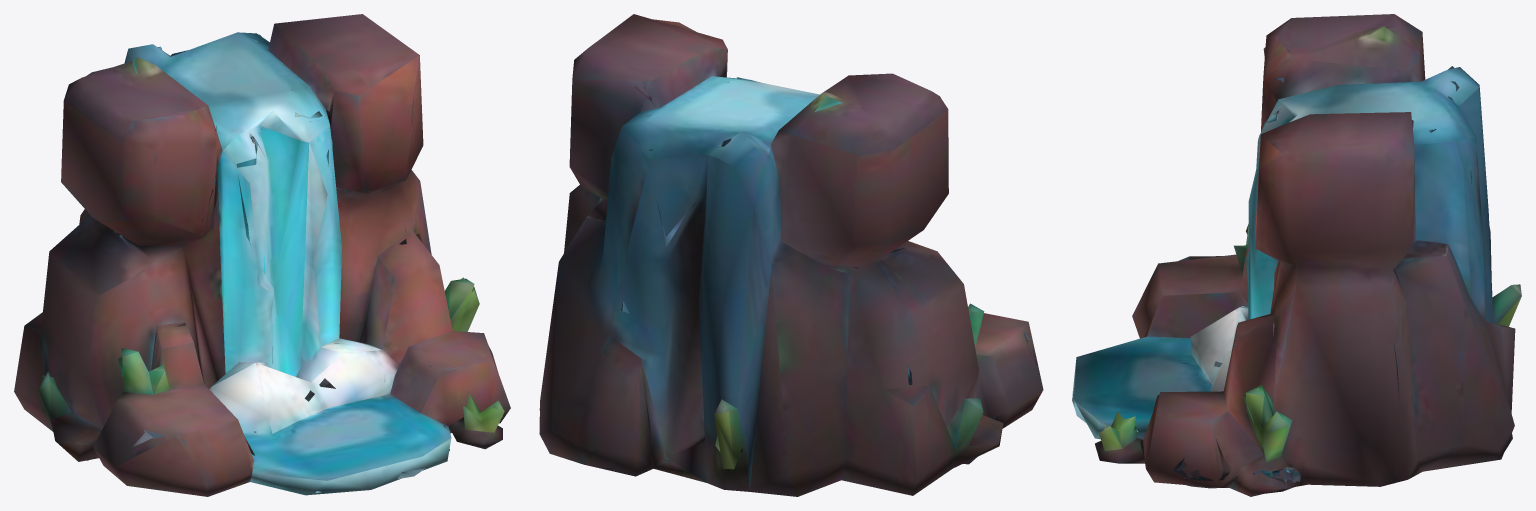
File: lg-frozen-waterfall.glb
3 views of the same model, side by side, from view 1: azimuth 30°, elevation 25°; view 2: azimuth 150°, elevation 25°; view 3: azimuth 270°, elevation 25° (orthographic). The views are drawn at different scales.
Visible parts, largest first — view 1: geometry_0; view 2: geometry_0; view 3: geometry_0.
Part boxes in pixels (bbox=[...]): geometry_0: bbox=[14, 14, 510, 496]; geometry_0: bbox=[539, 14, 1043, 496]; geometry_0: bbox=[1072, 14, 1521, 496].
Size of the model in its own units: 1 by 0.7967 by 0.9582.
1 material, 1 textured.
